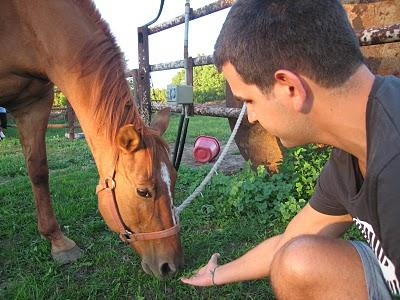person: (177, 1, 400, 300)
